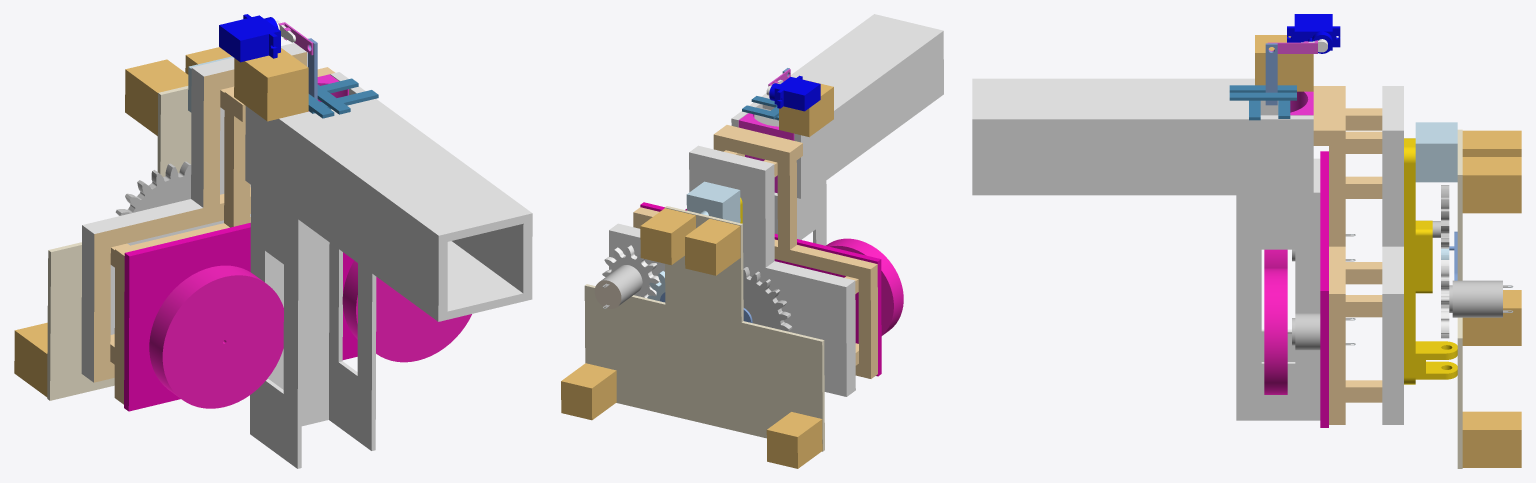
File: pingpong-launcher.gltf
3 views of the same model, side by side, from view 1: azimuth 30°, elevation 25°; view 2: azimuth 150°, elevation 25°; view 3: azimuth 270°, elevation 25° (orthographic). The views are drawn at different scales.
Parts seen in each view (by area): view 1: Ball Drop, Firing Chamber, Wheels (×2), Base, Motor Holder, Block (×4), Base For Slider, Servo, Spur gear (24 teeth), Push Stick; view 2: Base For Slider, Base, Ball Drop, Block (×6), Wheels, Spur gear (24 teeth), Firing Chamber, Motor Holder, Motor, Servo, Spur gear for Motor (12 teeth), Ball Roll; view 3: Ball Drop, Base, Block (×6), Firing Chamber, Angle Slider, Motor (×2), Wheels, Motor Holder, Base For Slider, Servo, Spur gear (24 teeth), Spur gear for Motor (12 teeth) (+2 smaller).
Boxes of the visible parts, box(x1,y1,x2,y2) form: Ball Drop: box(245, 72, 532, 321); Firing Chamber: box(250, 185, 376, 468); Wheels (×2): box(149, 260, 471, 408); Base: box(81, 43, 335, 404); Motor Holder: box(124, 223, 357, 411); Block (×4): box(14, 47, 308, 397); Base For Slider: box(47, 86, 191, 400); Servo: box(219, 14, 280, 62); Spur gear (24 teeth): box(115, 161, 191, 215); Push Stick: box(307, 38, 317, 99); Base For Slider: box(584, 206, 824, 451); Base: box(609, 125, 877, 396); Ball Drop: box(731, 14, 943, 198); Block (×6): box(561, 79, 833, 468); Wheels: box(826, 238, 903, 335); Spur gear (24 teeth): box(743, 267, 792, 331); Firing Chamber: box(774, 181, 826, 245); Motor Holder: box(640, 202, 881, 376); Motor: box(594, 265, 642, 308); Servo: box(769, 75, 820, 111); Spur gear for Motor (12 teeth): box(602, 245, 660, 297); Ball Roll: box(738, 113, 794, 193); Ball Drop: box(972, 78, 1313, 195); Base: box(1313, 86, 1403, 424); Block (×6): box(1255, 35, 1521, 467); Firing Chamber: box(1236, 158, 1320, 420); Angle Slider: box(1404, 138, 1457, 384); Motor (×2): box(1287, 280, 1513, 350); Wheels: box(1264, 268, 1287, 394); Motor Holder: box(1320, 151, 1328, 427); Base For Slider: box(1457, 129, 1462, 468); Servo: box(1287, 14, 1340, 53); Spur gear (24 teeth): box(1432, 185, 1449, 248); Spur gear for Motor (12 teeth): box(1441, 260, 1449, 338).
Size of the model in its own units: 0.196 by 0.2381 by 0.3269.
